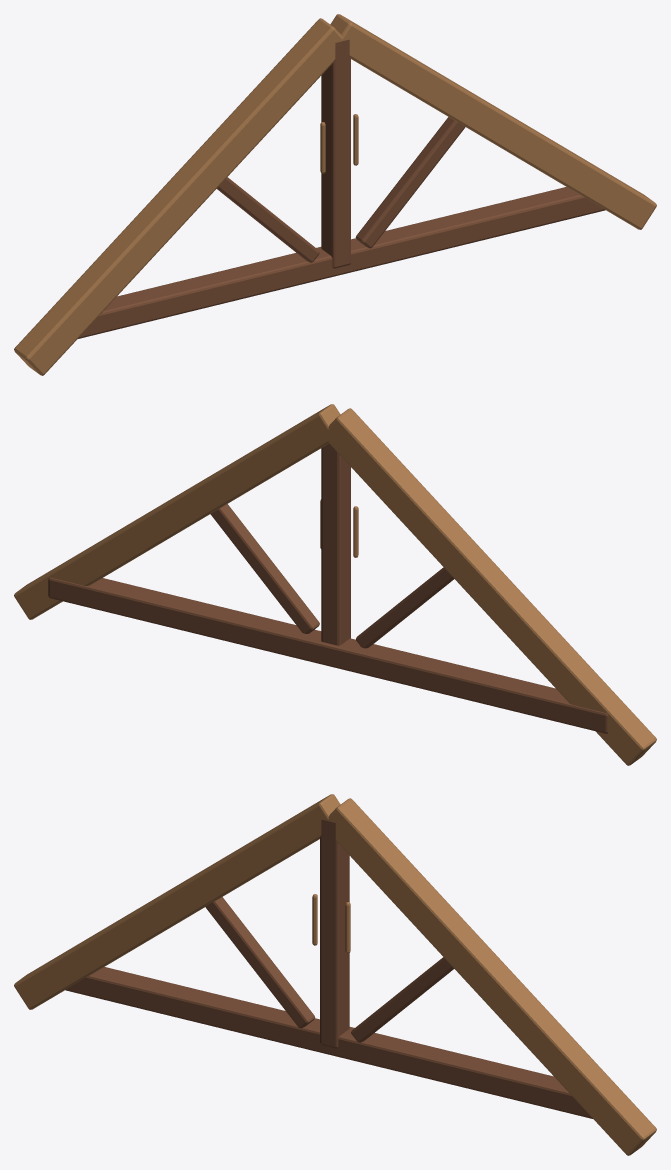
Rendered from gable_end_4m__structure.glb.
3 views of the same model, one above another, from view 1: azimuth 30°, elevation 25°; view 2: azimuth 150°, elevation 25°; view 3: azimuth 330°, elevation 25° (orthographic).
Parts seen in each view (by area): view 1: gable_end_4m__structure__mesh_00; view 2: gable_end_4m__structure__mesh_00; view 3: gable_end_4m__structure__mesh_00.
Part boxes in pixels (x1,y1,x2,y2): gable_end_4m__structure__mesh_00: (14,14,656,375); gable_end_4m__structure__mesh_00: (14,404,656,765); gable_end_4m__structure__mesh_00: (14,794,656,1155).
Bounding box in the file's own units: 4.61 × 1.94 × 0.19.
